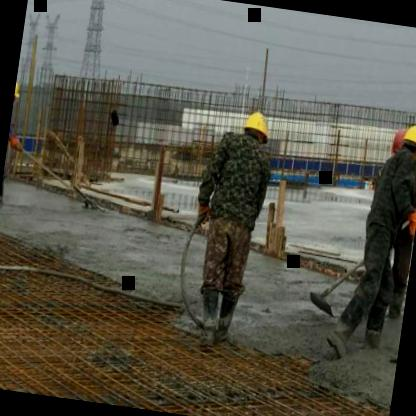helmet: (238, 106, 275, 154), (394, 121, 416, 168), (12, 78, 21, 108)
